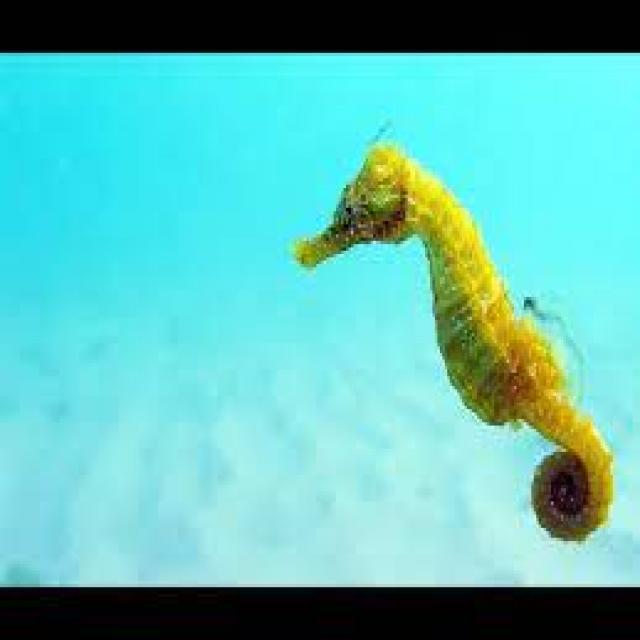SeaHorse: (292, 138, 616, 544)
